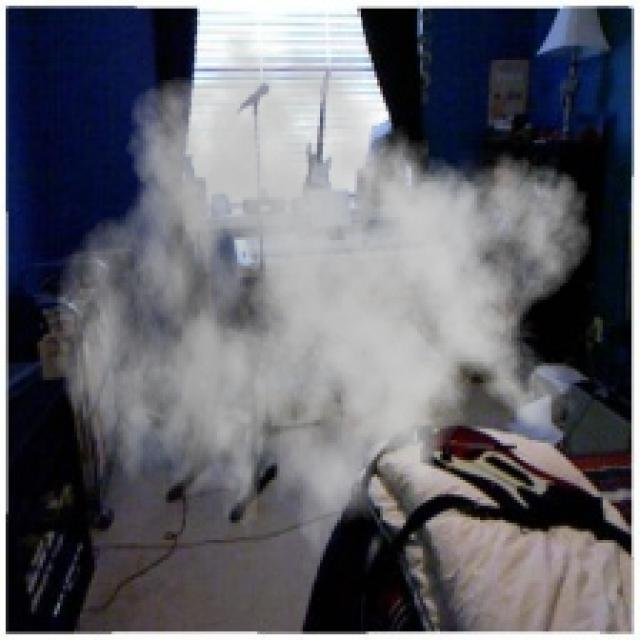Smoke: (55, 17, 594, 583)
